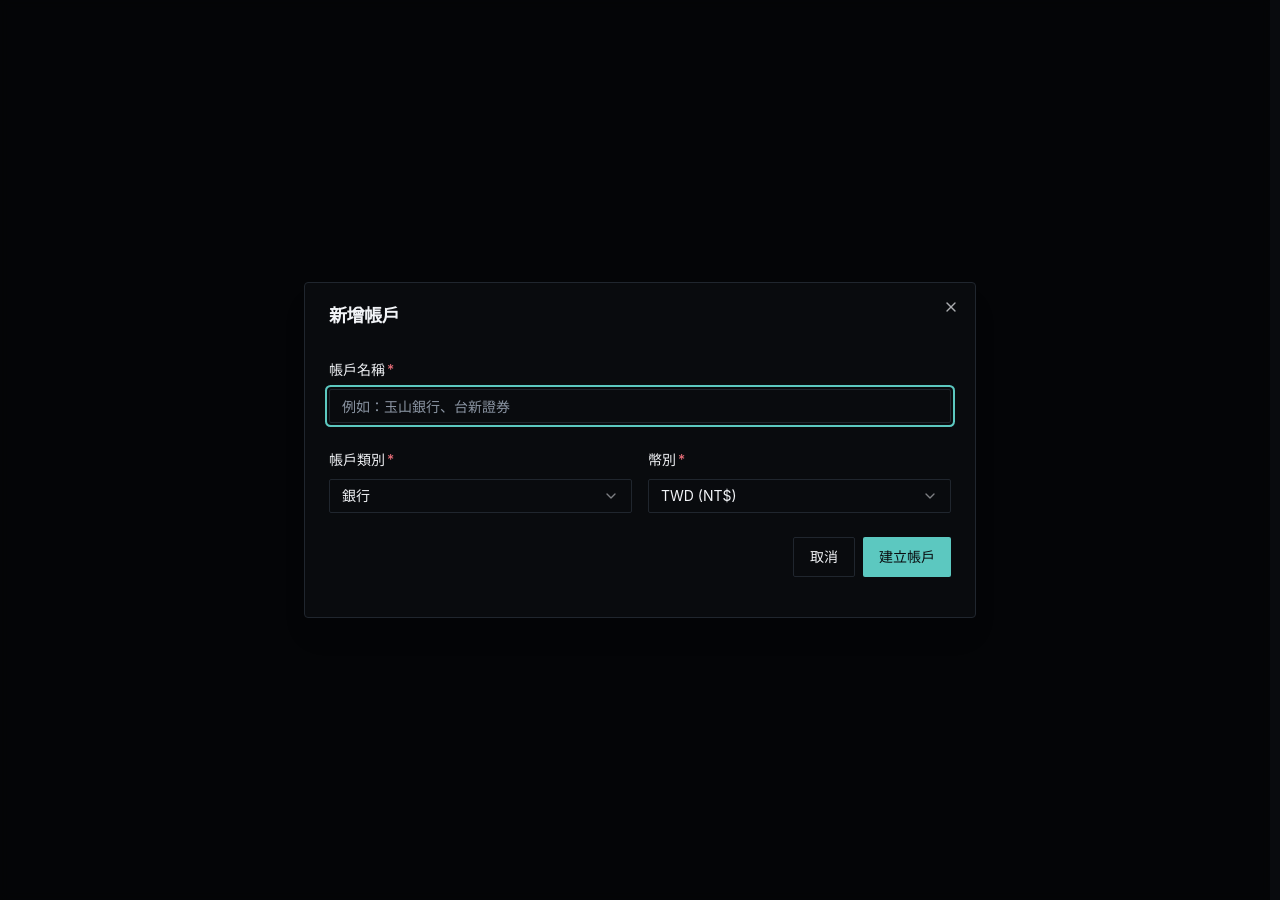
AccountForm › blocks submit and shows the error when the name is empty
Click the button "建立帳戶": [907, 557] box [863,537,951,577]
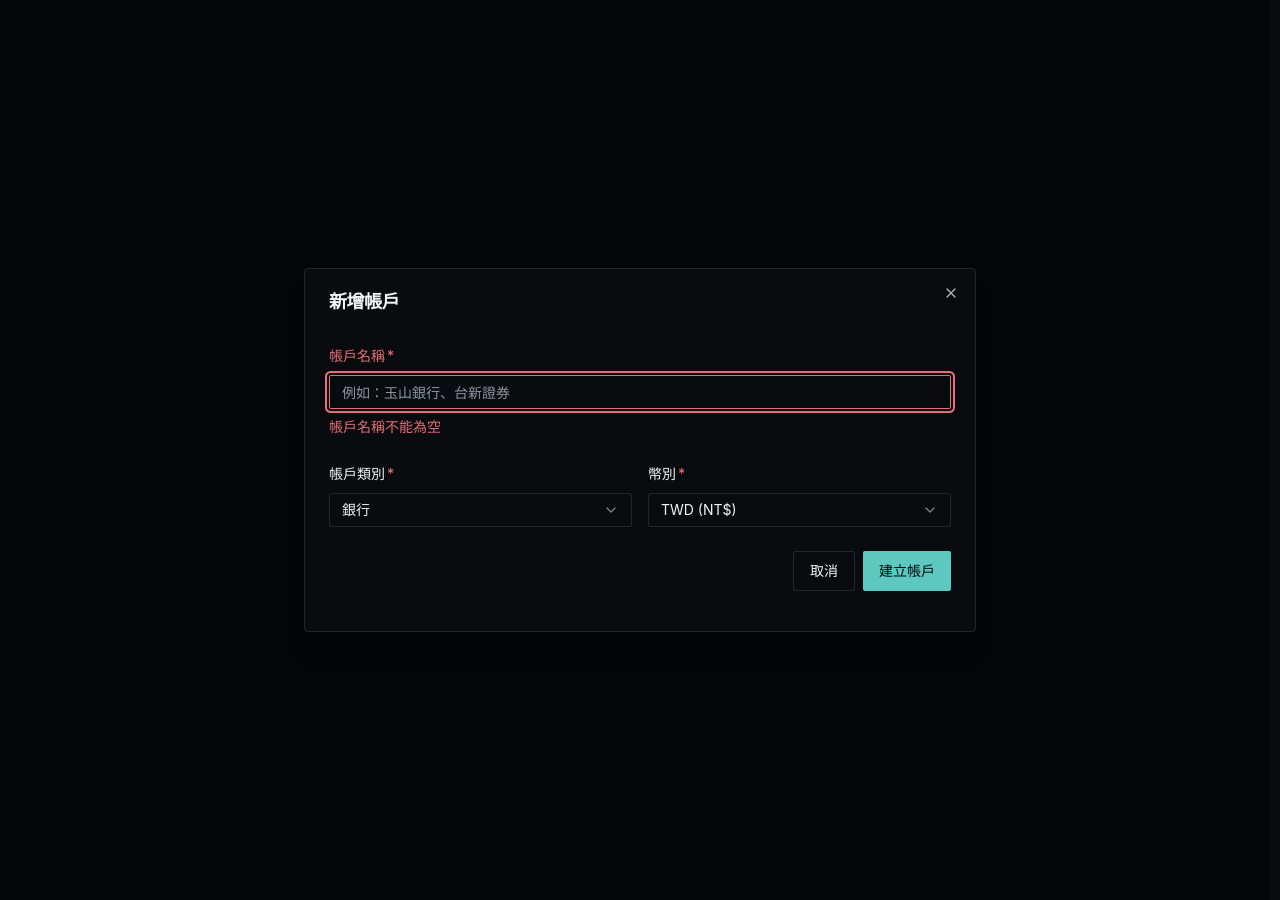
Now the text "帳戶名稱不能為空" is shown, box [329,418,441,435]
